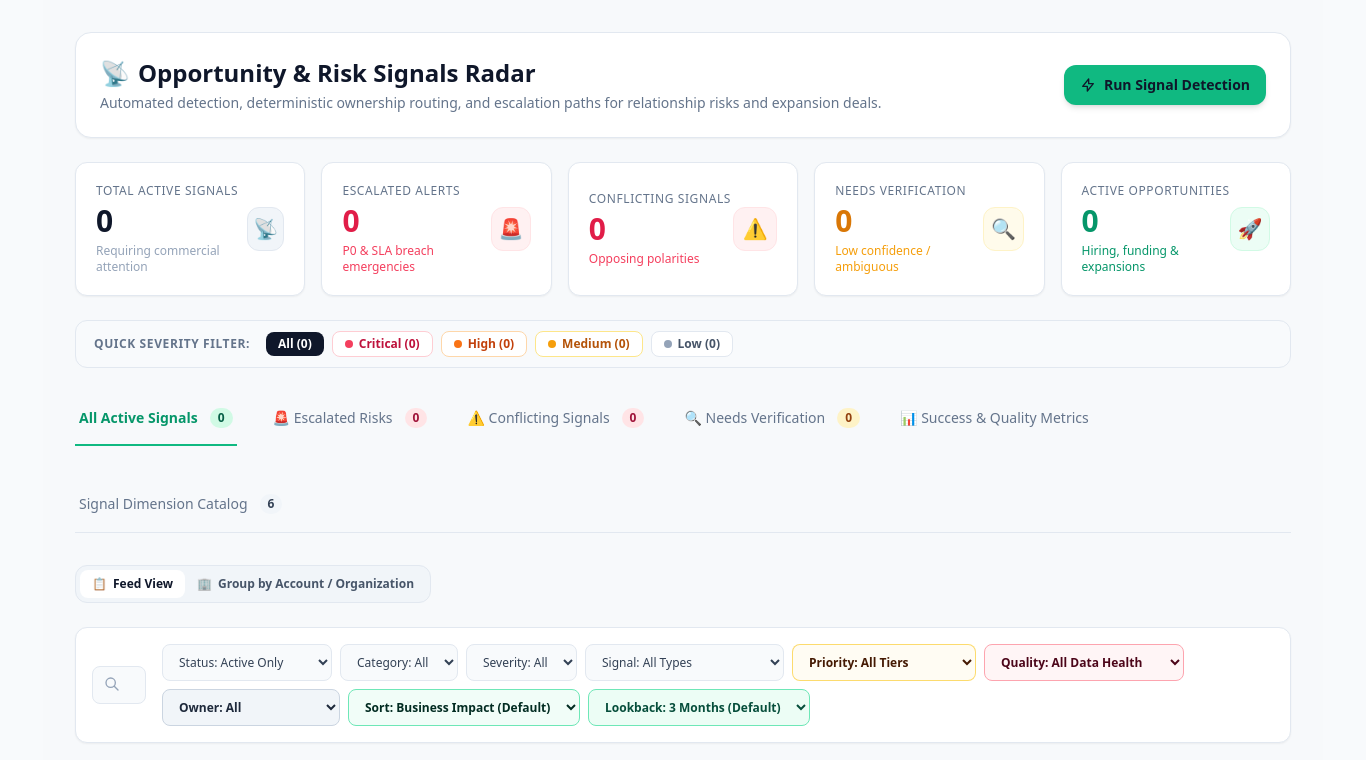
Test case: SignalsPage Component › switches to Signal Dimension Catalog tab
Click the text "Signal Dimension Catalog": (163, 504) [79,494,248,514]
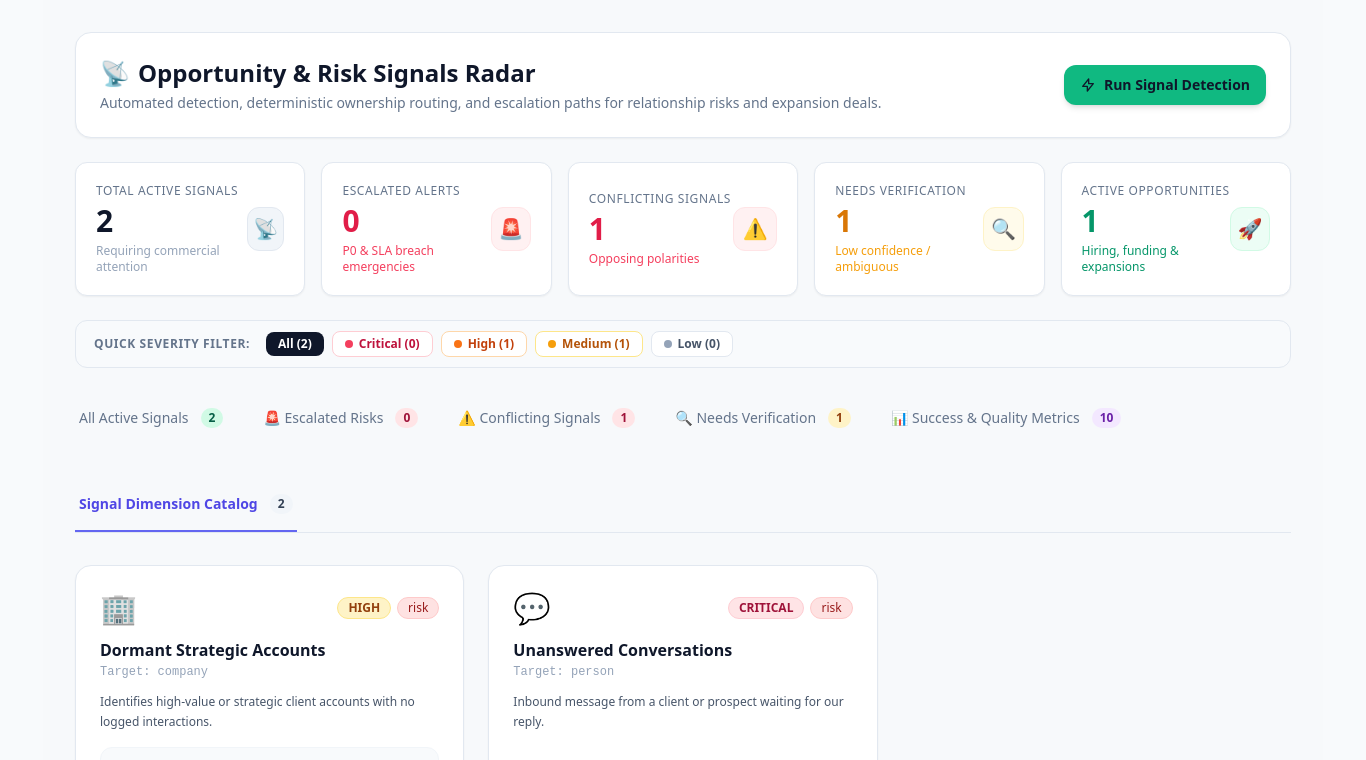
Result: the heading "Unanswered Conversations" is shown at [513,639,732,661]
Result: the text "Identifies high-value or strategic client accounts with no logged interactions." is shown at [100,692,439,731]
